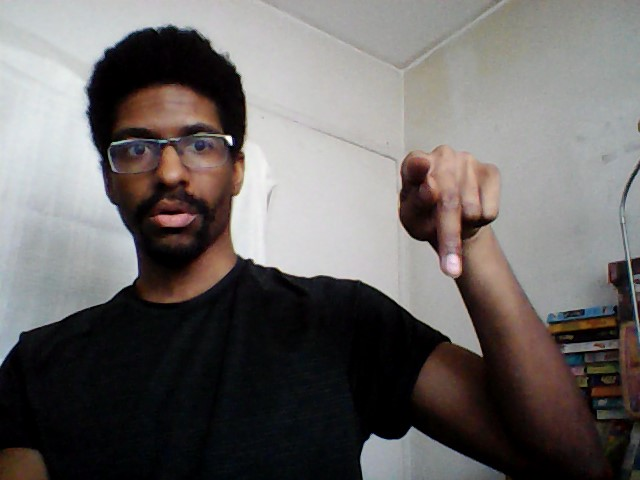p: (395, 142, 507, 285)
